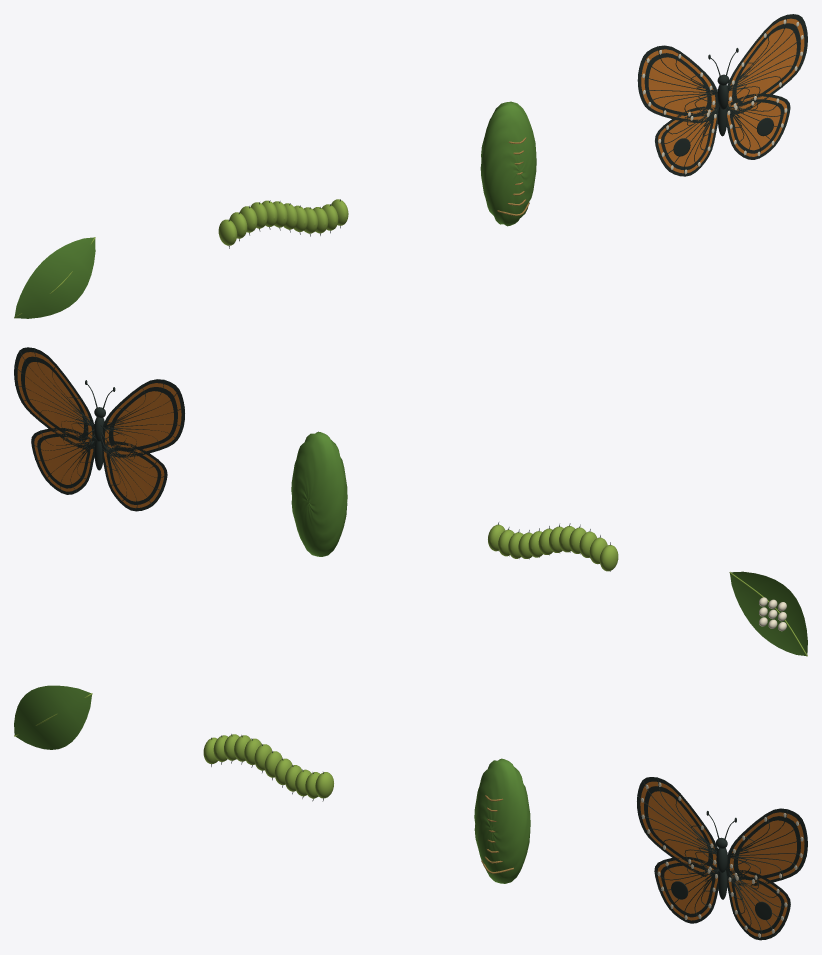
3 views of the same model, one above another, from view 1: azimuth 30°, elevation 25°; view 2: azimuth 150°, elevation 25°; view 3: azimuth 330°, elevation 25° (orthographic).
Visible parts, largest first — view 1: B11_SPEC_Ochre scales_export, B11_SPEC_Leaf jade_export, B11_SPEC_Chitin_export, B11_SPEC_Leaf new growth_export, B11_SPEC_Pale scales_export; view 2: B11_SPEC_Ochre scales_export, B11_SPEC_Leaf jade_export, B11_SPEC_Chitin_export, B11_SPEC_Leaf new growth_export, B11_SPEC_Pale scales_export; view 3: B11_SPEC_Ochre scales_export, B11_SPEC_Leaf jade_export, B11_SPEC_Chitin_export, B11_SPEC_Leaf new growth_export, B11_SPEC_Pale scales_export.
Boxes of the visible parts, x1,y1,x2,y2 form: B11_SPEC_Ochre scales_export: [641, 18, 804, 173]; B11_SPEC_Leaf jade_export: [14, 101, 536, 318]; B11_SPEC_Chitin_export: [228, 14, 807, 248]; B11_SPEC_Leaf new growth_export: [14, 199, 348, 318]; B11_SPEC_Pale scales_export: [642, 19, 803, 174]; B11_SPEC_Ochre scales_export: [17, 352, 181, 508]; B11_SPEC_Leaf jade_export: [291, 431, 807, 655]; B11_SPEC_Chitin_export: [14, 347, 610, 571]; B11_SPEC_Leaf new growth_export: [488, 524, 807, 656]; B11_SPEC_Pale scales_export: [759, 597, 786, 631]; B11_SPEC_Ochre scales_export: [640, 781, 804, 936]; B11_SPEC_Leaf jade_export: [14, 685, 530, 883]; B11_SPEC_Chitin_export: [211, 734, 807, 940]; B11_SPEC_Leaf new growth_export: [14, 693, 333, 798]; B11_SPEC_Pale scales_export: [641, 782, 803, 937].
Size of the model in its own units: 5.01 by 0.8469 by 0.2479.
